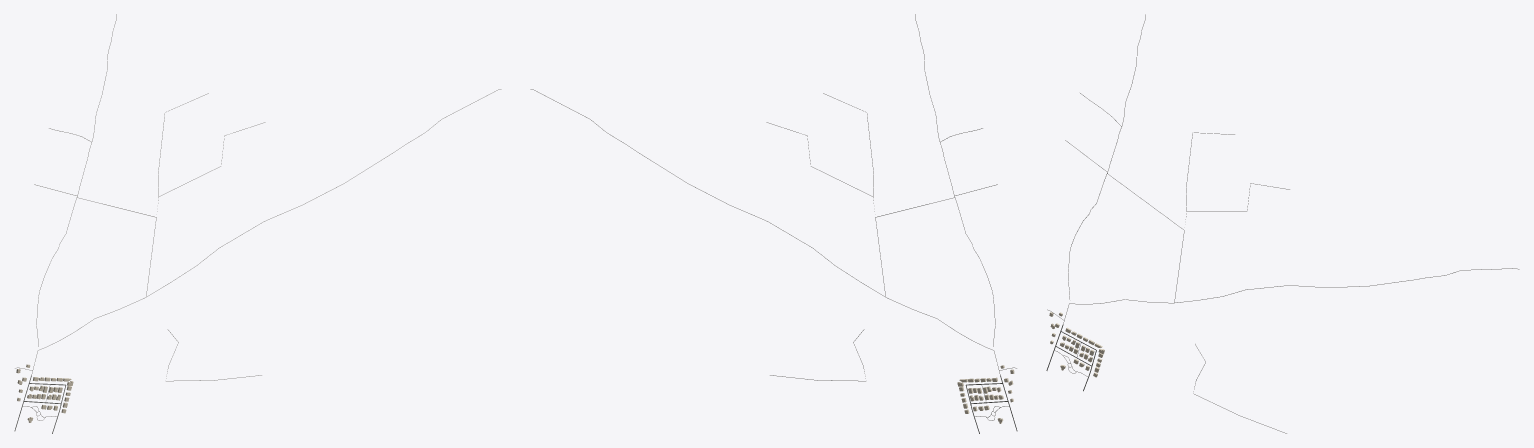
Rendered from historic-palestine-06_24_3484_3186.glb.
3 renders of one model, left to right at view 1: azimuth 30°, elevation 25°; view 2: azimuth 150°, elevation 25°; view 3: azimuth 330°, elevation 25°, orthographic. The views are drawn at different scales.
Visible parts, largest first — view 1: Road .003; view 2: Road .003; view 3: Road .003.
Boxes of the visible parts, left/top/right/bottom form: Road .003: left=38, top=89, right=501, bottom=350; Road .003: left=530, top=89, right=993, bottom=350; Road .003: left=1069, top=268, right=1519, bottom=304.
Size of the model in its own units: 1958 by 1553 by 8.7.
